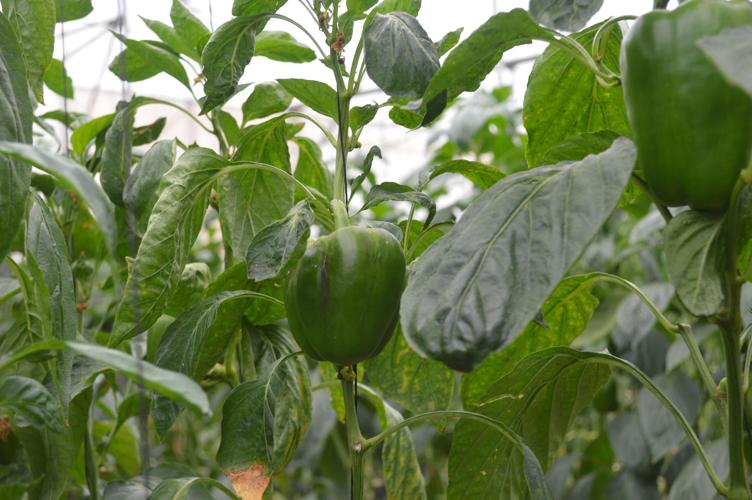BellPepper: (624, 2, 744, 208), (287, 226, 404, 365)
